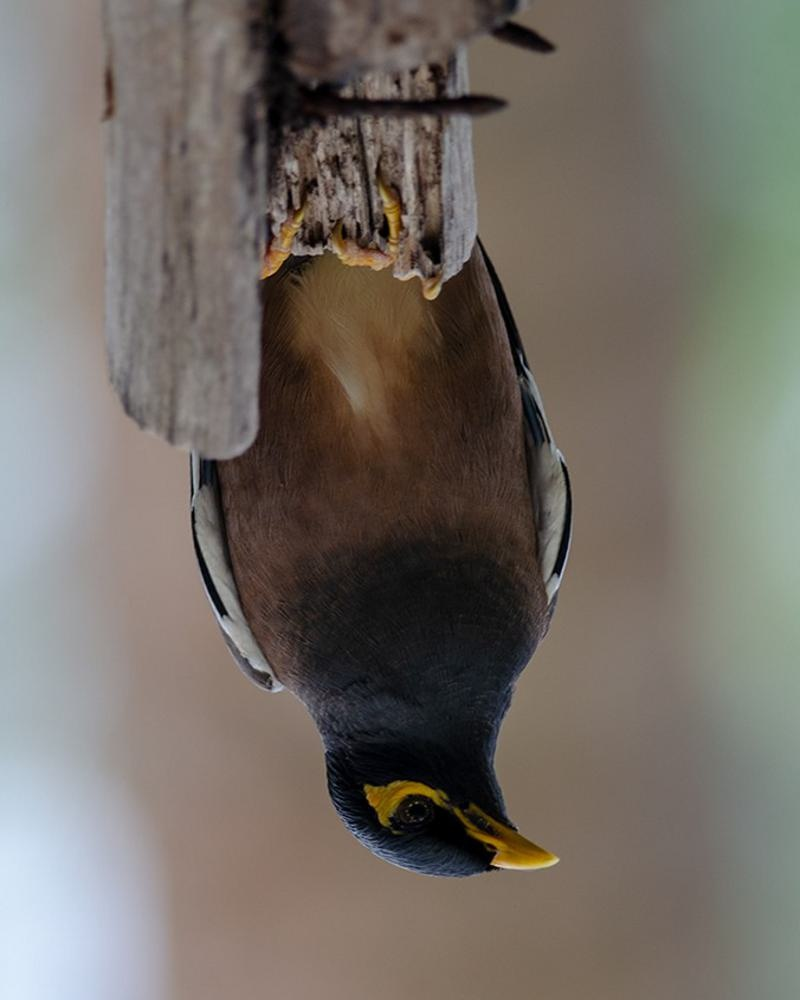myna: (165, 48, 618, 906)
